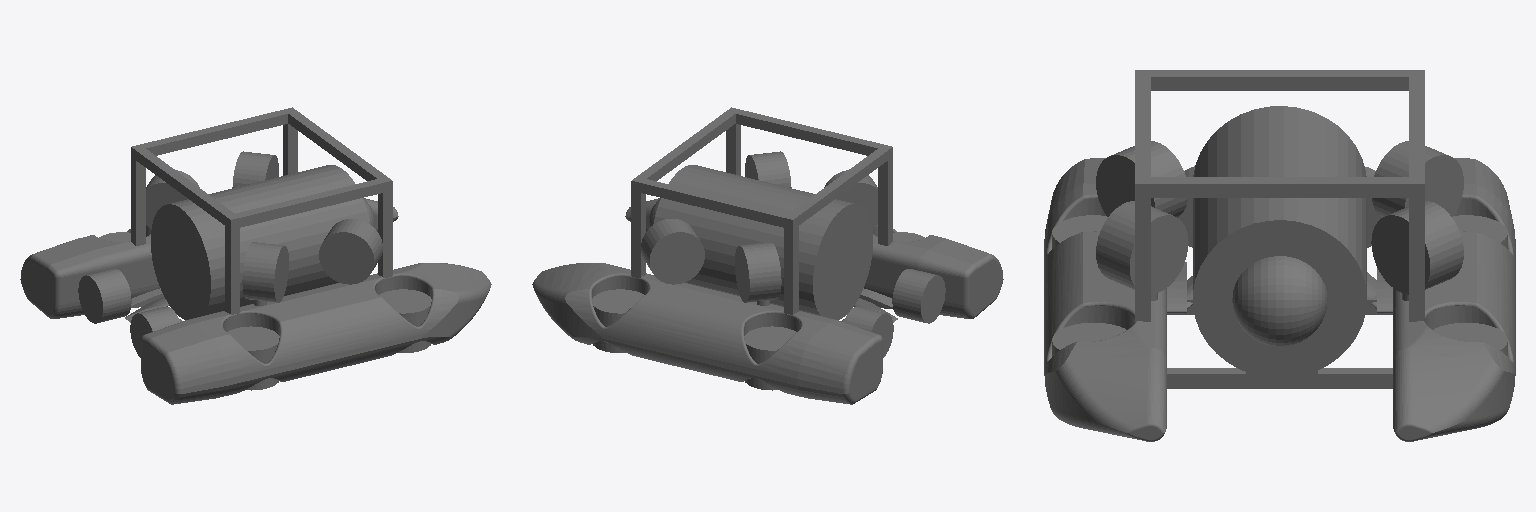
URDF robot description (rov):
<robot name="rov">
  <link name="auv_link">
    <visual>
      <origin rpy="1.5708 0 0" xyz="-0.35 0.3 -0.15"/>
      <geometry>
        <mesh filename="package://hit25_auv/meshes/rov_urdf.stl"
               scale="0.001 0.001 0.001"/>
      </geometry>
      <material name="grey">
        <color rgba="0.5 0.5 0.5 1"/>
      </material>
    </visual>

    <collision>
      <!-- visual과 동일하게 맞춤 -->
      <origin rpy="1.5708 0 0" xyz="-0.35 0.3 -0.15"/>
      <geometry>
        <mesh filename="package://hit25_auv/meshes/rov_urdf.stl"
               scale="0.001 0.001 0.001"/>
      </geometry>
    </collision>

    <inertial>
      <mass value="1.0"/>
      <origin xyz="0 0 0"/>
      <inertia ixx="0.1" ixy="0" ixz="0"
               iyy="0.1" iyz="0" izz="0.1"/>
    </inertial>
  </link>
</robot>

--- Facts derived from the render (not from the file) ---
The picture shows the robot from 3 angles, left to right: view 1: azimuth 30°, elevation 25°; view 2: azimuth 150°, elevation 25°; view 3: azimuth 270°, elevation 25°; orthographic projection.
Robot: rov — 1 links, 0 joints (none); root link auv_link; default pose: every joint at zero.
Visible links, largest first — view 1: auv_link; view 2: auv_link; view 3: auv_link.
Link boxes in pixels (bbox=[...]): auv_link: bbox=[20, 107, 491, 404]; auv_link: bbox=[532, 107, 1003, 404]; auv_link: bbox=[1044, 70, 1515, 441].
Size in the robot's own frame: 0.718 by 0.593 by 0.3145 metres.
Meshes: 1 distinct files referenced, 1 mesh visuals loaded (1 binary STL).
